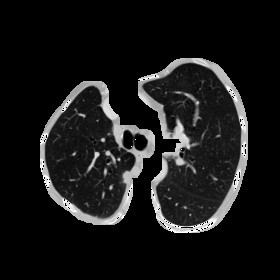PN: (120, 170, 132, 182)
